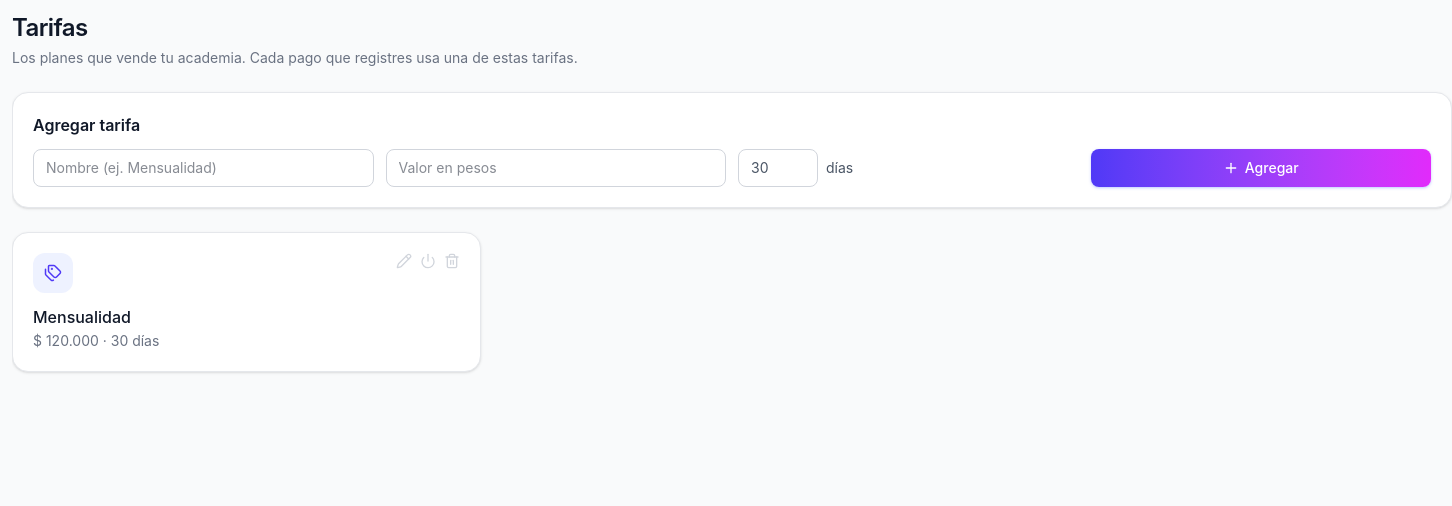
Test: RF-18 · HU-18: editar una tarifa (pantalla) › CP-234 · HU-18-CA-03: el administrador cambia el valor de una tarifa y la pantalla envía solo esa tarifa
The image size is (1452, 506).
Click the button named "Editar Mensualidad".
click(404, 261)  # box 396,253 -> 412,269
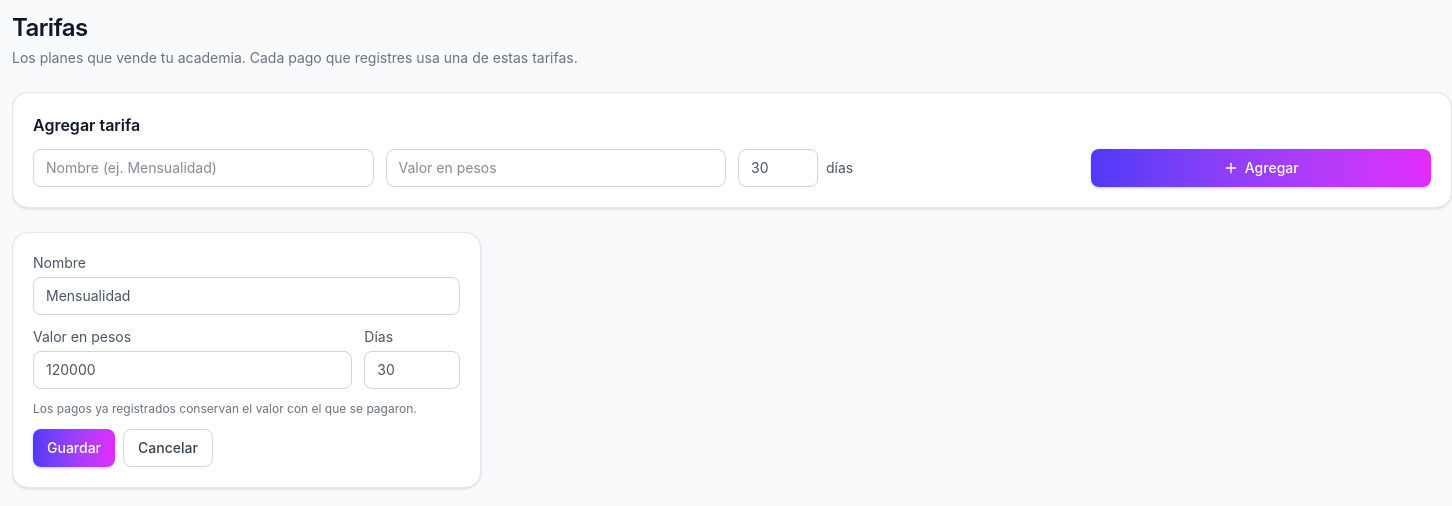
Now the form named "Editar Mensualidad" shows "Los pagos ya registrados conservan el valor con el que se pagaron.", box 33,401 -> 417,416
Replace the text in the number field labelled "Valor en pesos" below "Nombre" with "150000" at (193, 370), box 33,351 -> 352,389
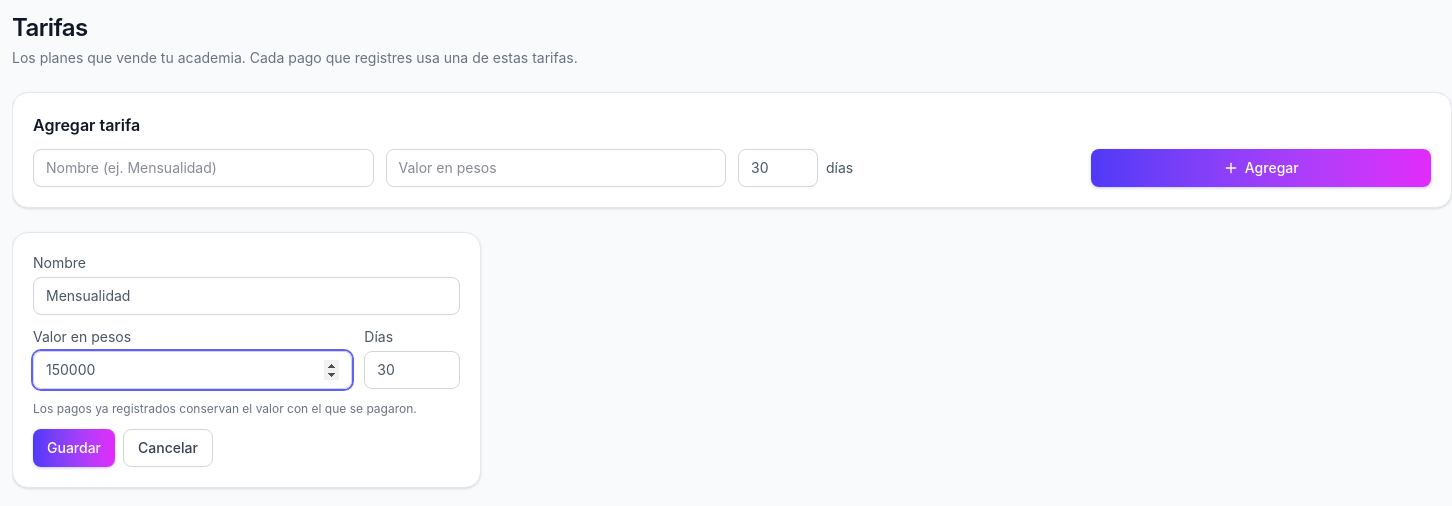
Click the button "Guardar".
click(74, 448)  # box 33,429 -> 115,467
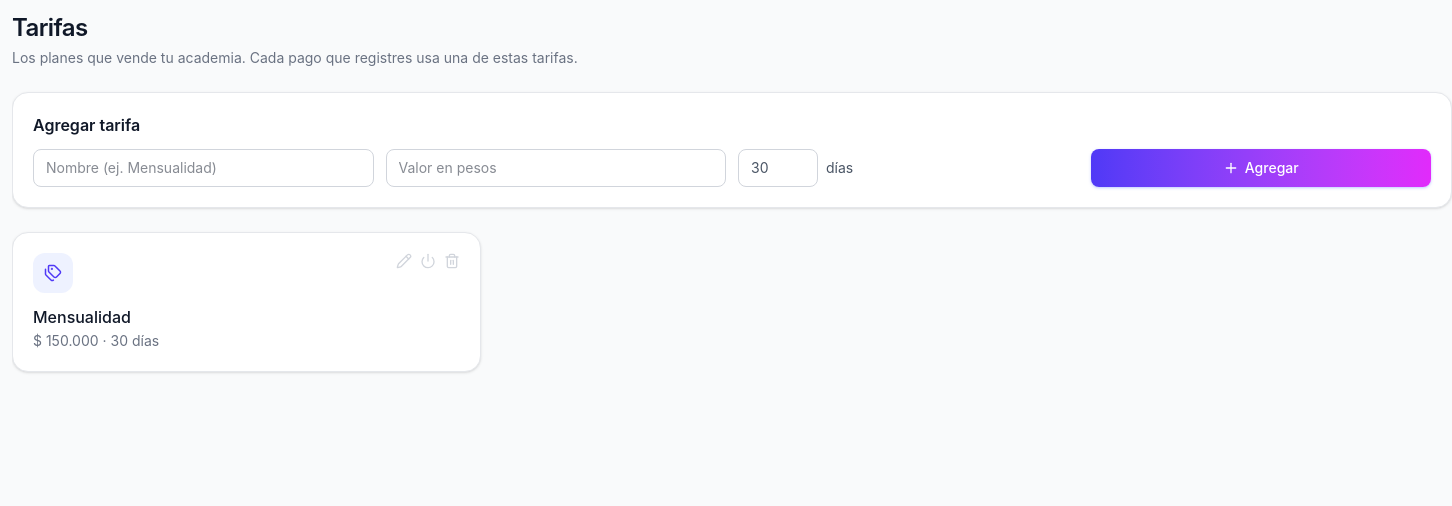
Now the text "$ 150.000 · 30 días" is shown, box 33,332 -> 159,349
